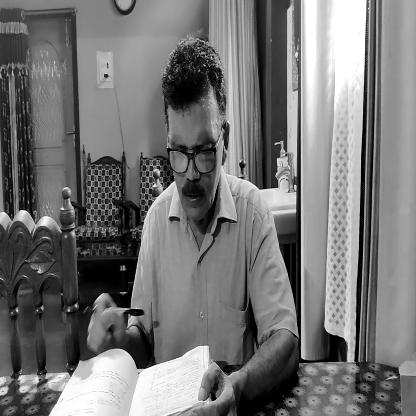Normal: (162, 38, 226, 220)
